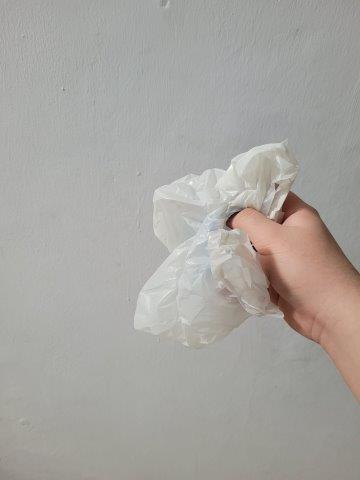plastik: (133, 141, 296, 341)
